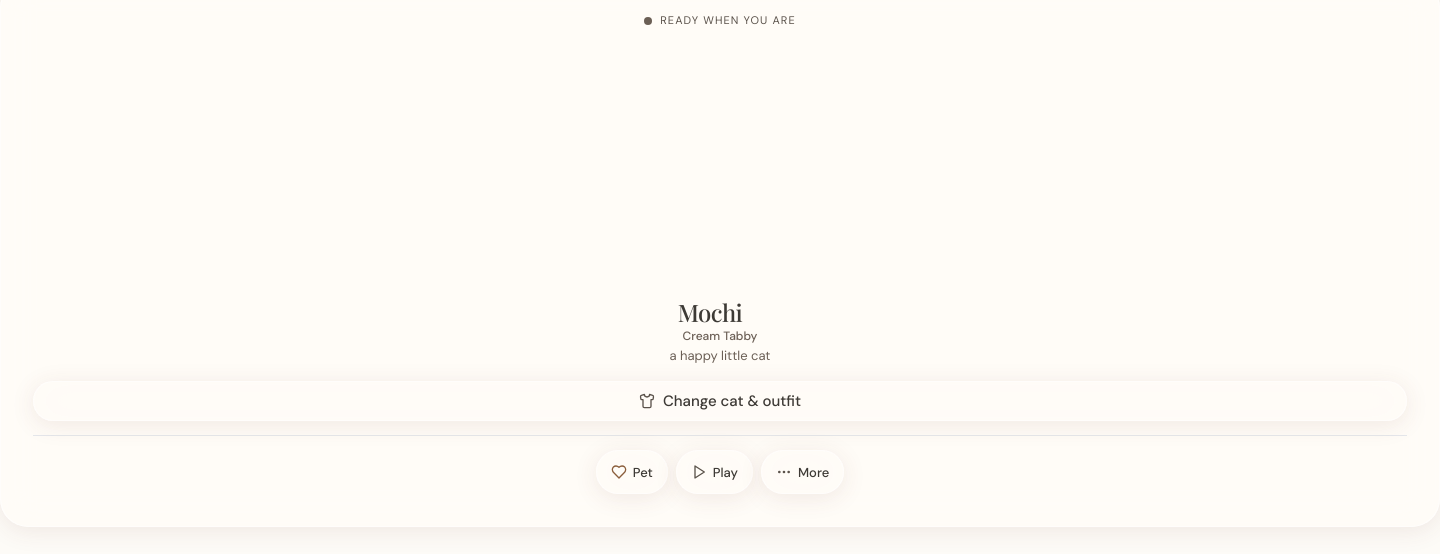
Scenario: CatCompanion Component › Inline rename › renames cat when user clicks rename and presses Enter
Step 1. Click the button with aria-label "Rename Mochi" → [720, 312], box [674,296,766,328]
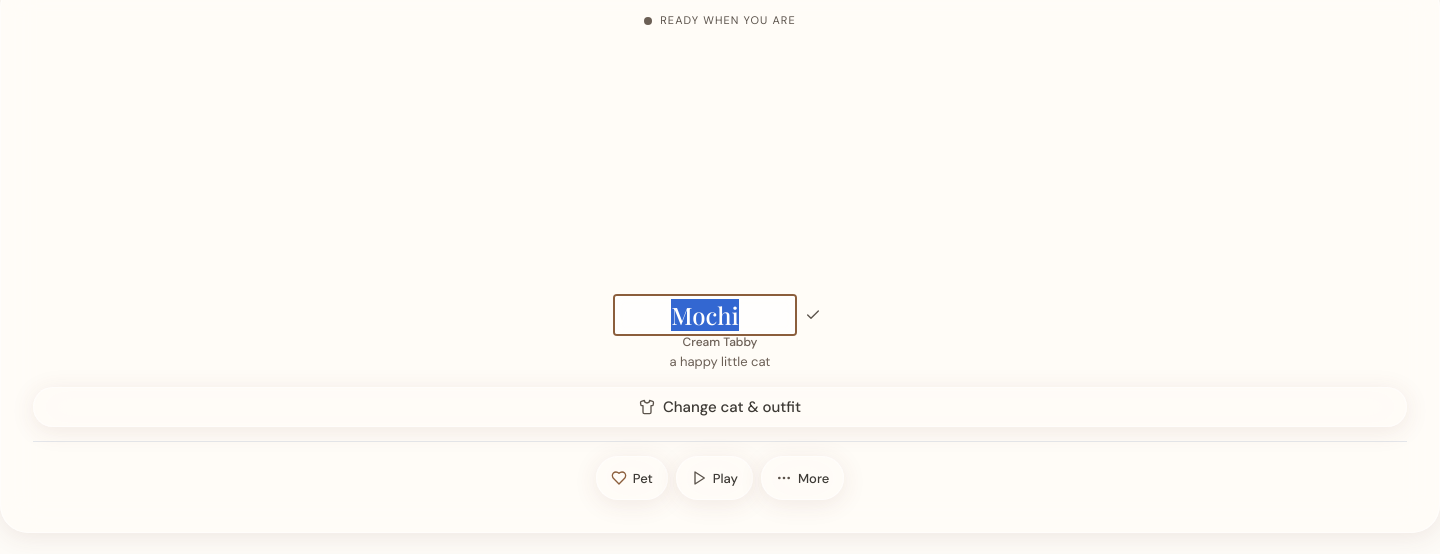
Expected: the field named "Cat name" is shown
Step 2. Replace the text in the field named "Cat name" with "Biscuit" → [705, 315], box [615,296,795,334]
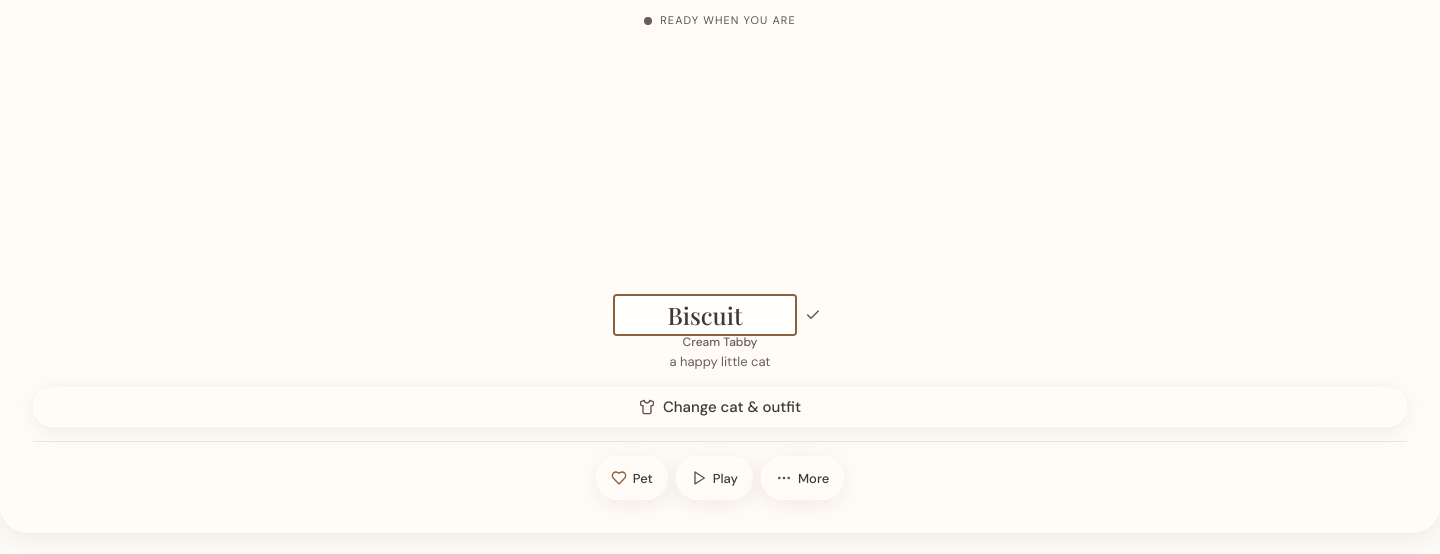
Step 3. Press Enter in the field named "Cat name", box [615,296,795,334]
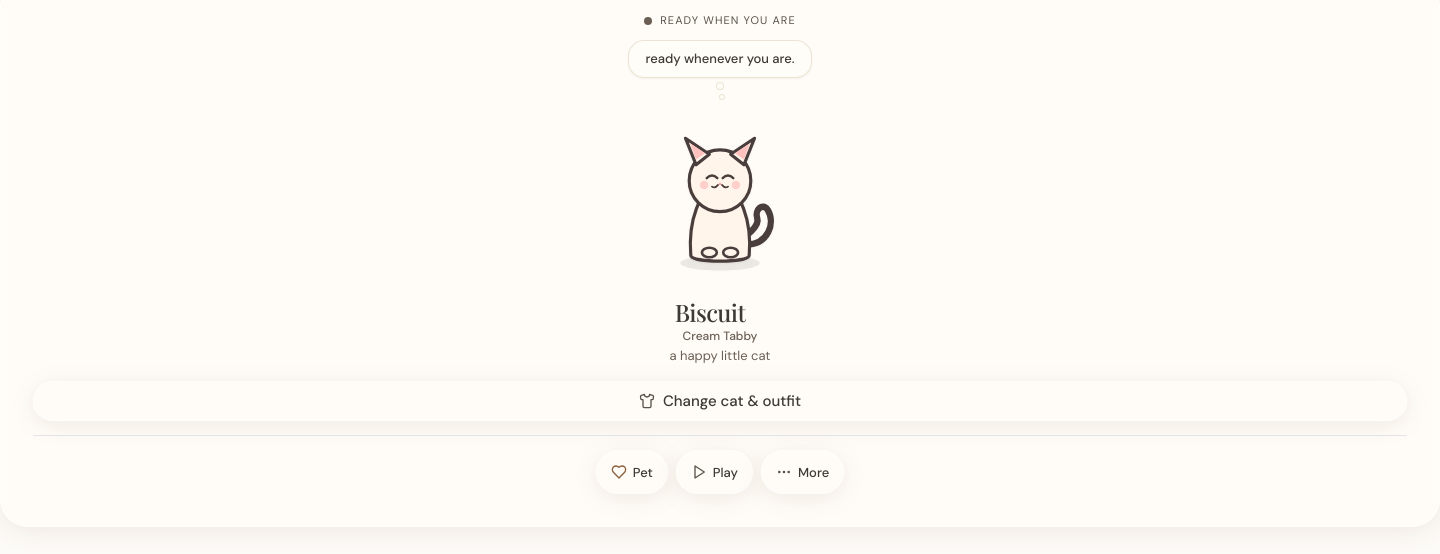
Expected: the text "Biscuit" is shown, [675,296,745,328]
